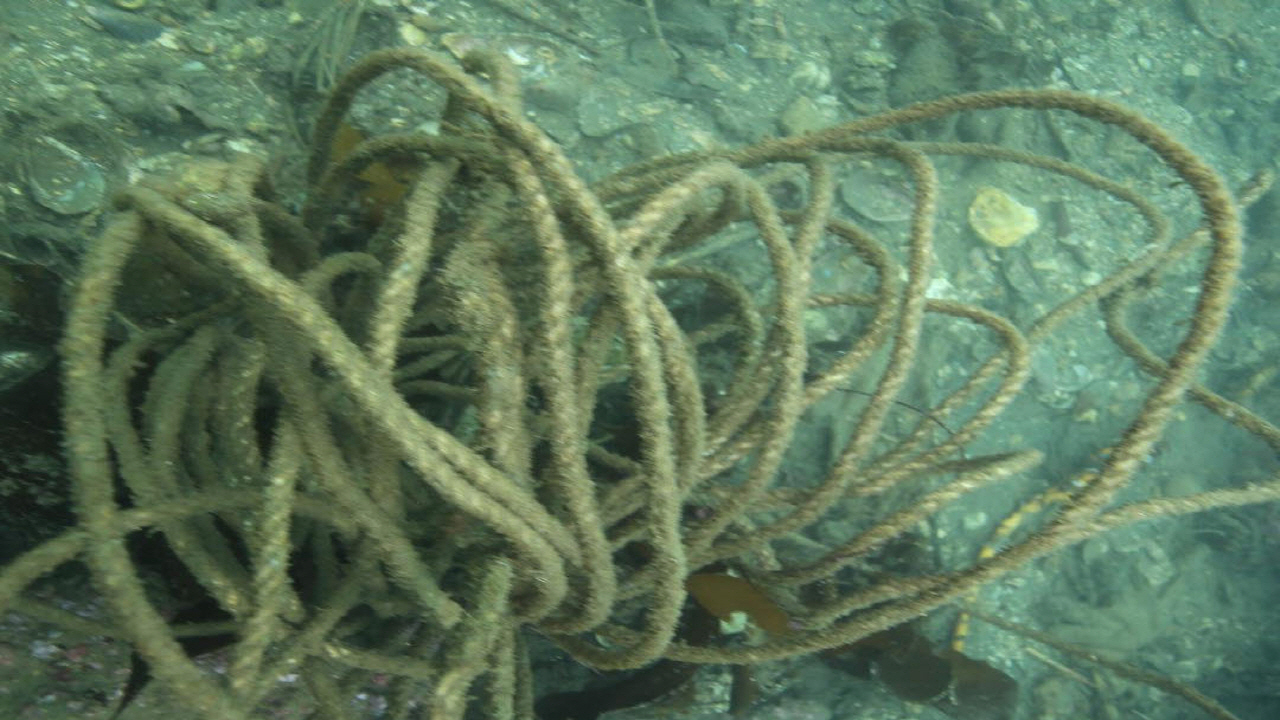bundle of ropes: (0, 31, 1280, 720)
